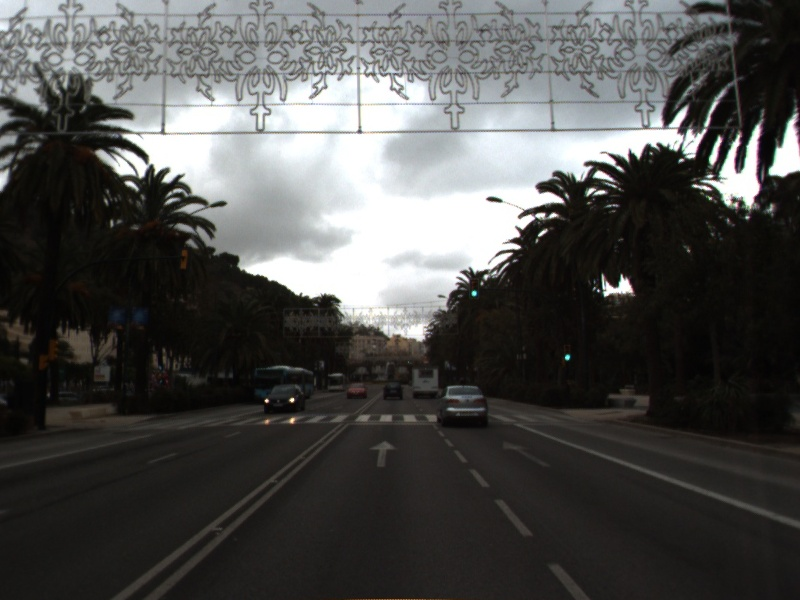STRAIGHT: (500, 439, 553, 469), (367, 438, 401, 468)
